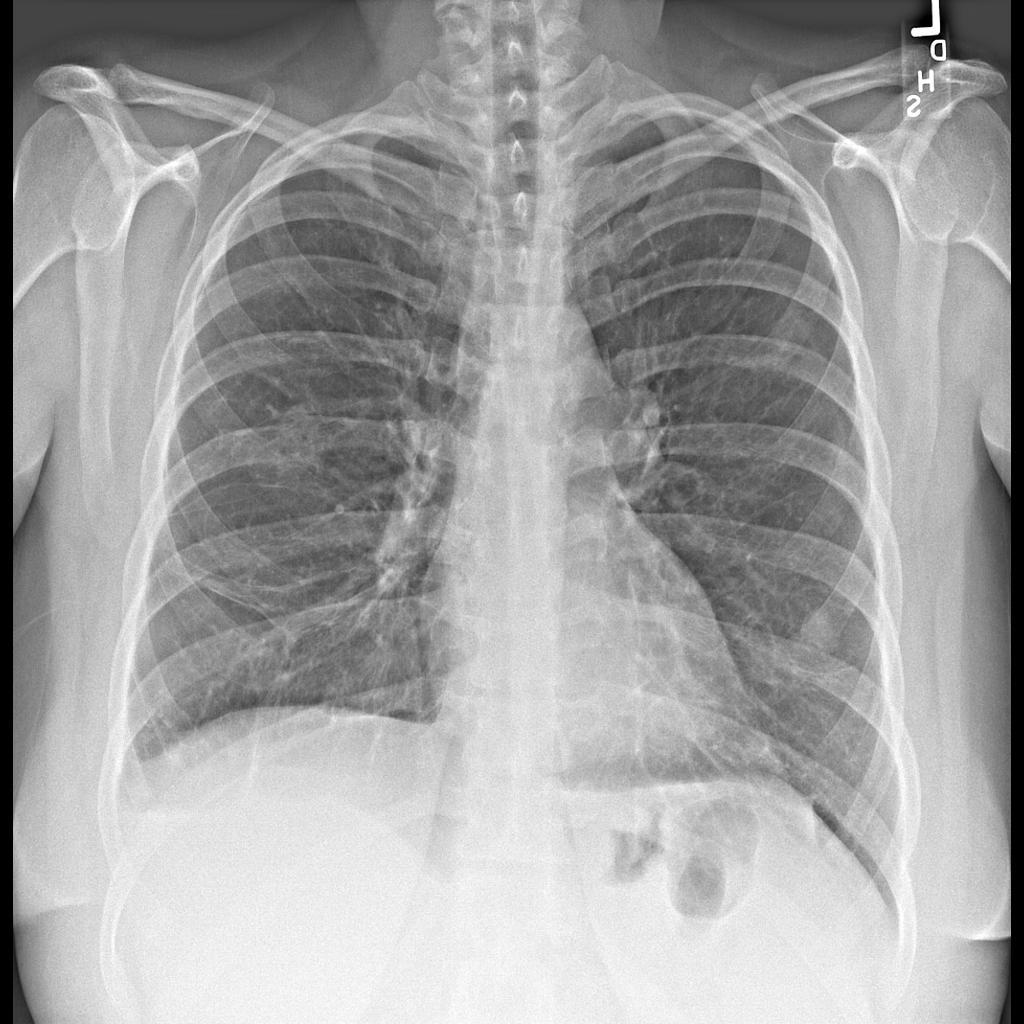Nodule: (274, 396, 329, 463), (801, 603, 843, 656)
